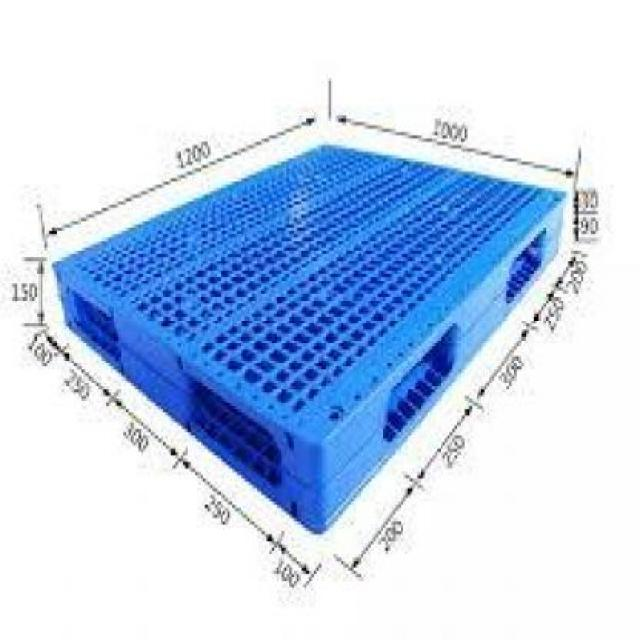pallet: (37, 128, 581, 549)
